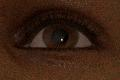eye: (42, 24, 80, 49)
